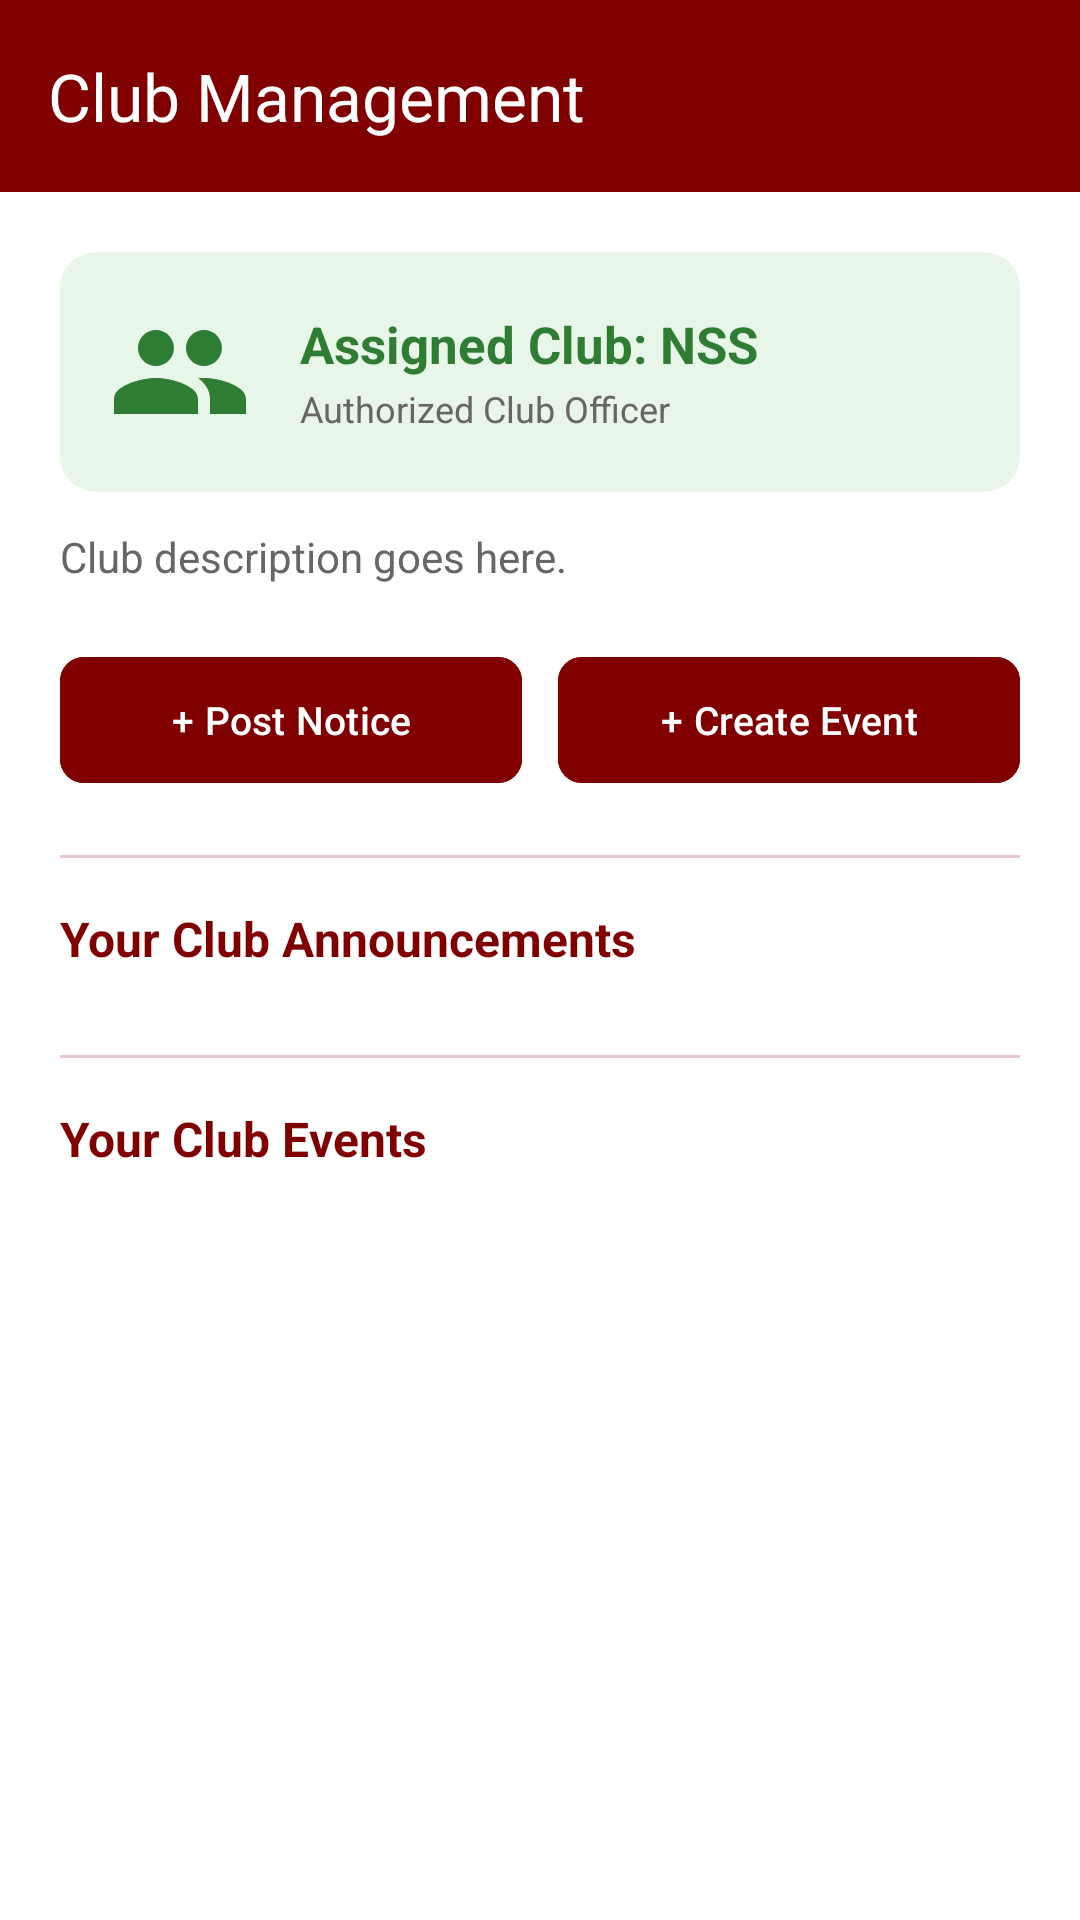

Locate icon controls on the screen. Image size 1080px×1920px, boxes as (x1, y1, x2, y2).
clubs: (114, 330, 246, 414)
